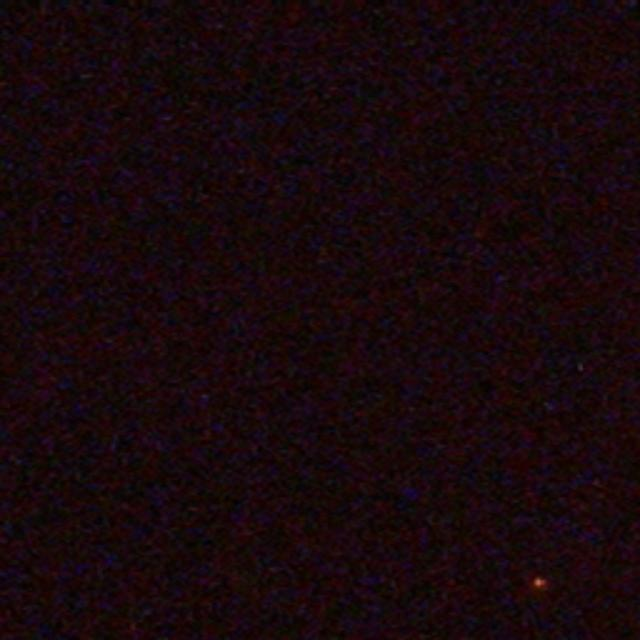Fragment: (532, 578, 552, 592)
